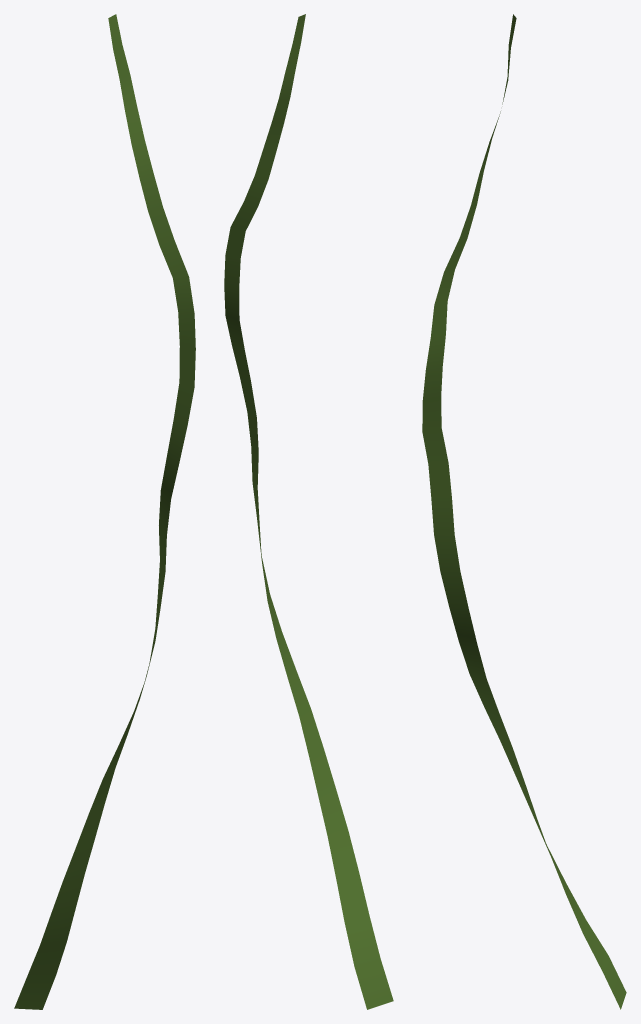
Rendered from plant_swamp_kelp_long_solo_G.fbx.
3 renders of one model, left to right at view 1: azimuth 30°, elevation 25°; view 2: azimuth 210°, elevation 25°; view 3: azimuth 270°, elevation 25°, orthographic. The views are drawn at different scales.
Parts seen in each view (by area): view 1: plant_swamp_kelp_long_solo_G; view 2: plant_swamp_kelp_long_solo_G; view 3: plant_swamp_kelp_long_solo_G.
Boxes of the visible parts, x1=… form: plant_swamp_kelp_long_solo_G: x1=14, y1=14, x2=195, y2=1009; plant_swamp_kelp_long_solo_G: x1=224, y1=14, x2=393, y2=1009; plant_swamp_kelp_long_solo_G: x1=422, y1=14, x2=626, y2=1009.
Bounding box in the file's own units: 25.02 × 302 × 55.8.
